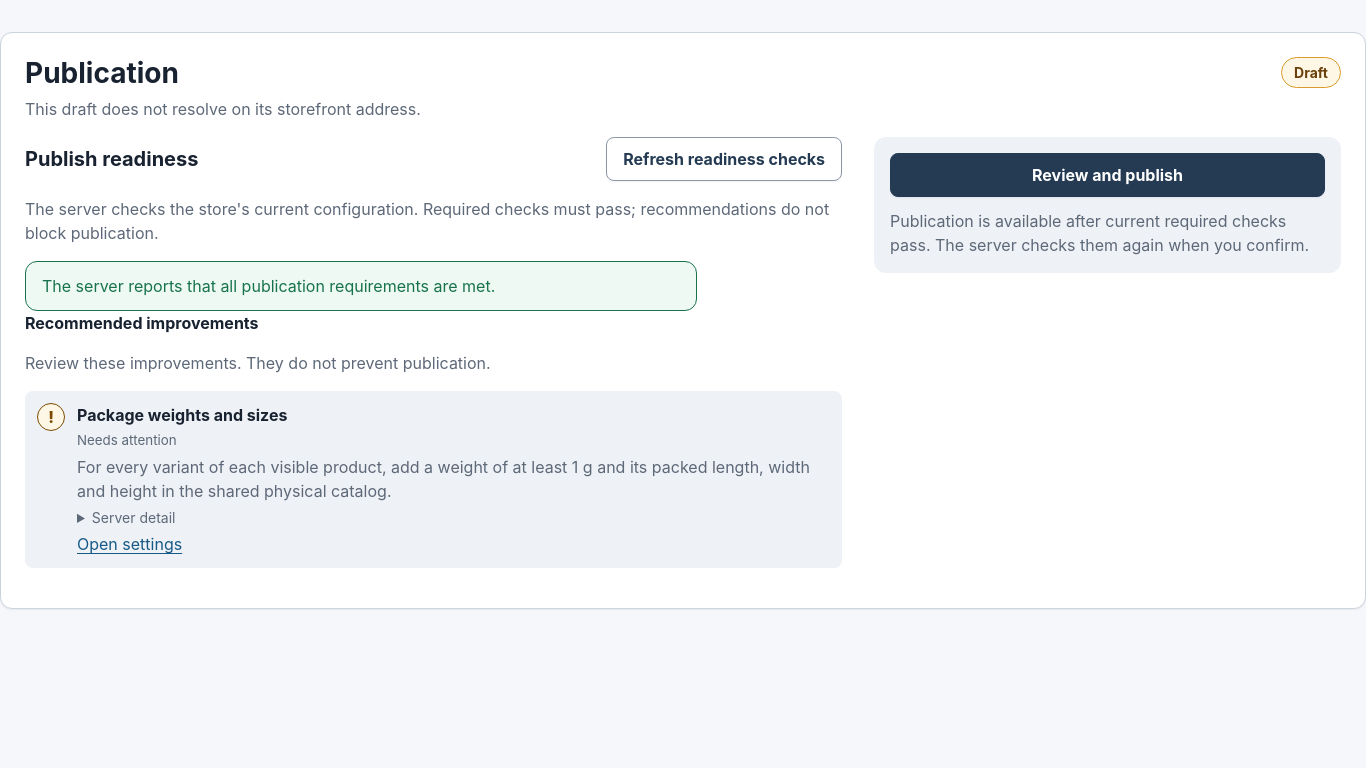
it: server publication readiness › labels shipping data and links to company products, respecting the server weight in en
The image size is (1366, 768).
Expected: the text "For every variant of each visible product, add a weight of at least 1 g and its packed length, width and height in the s" is shown, top-left (77, 457), bottom-right (810, 501)
Expected: the button "Review and publish" is enabled, top-left (890, 153), bottom-right (1325, 197)
Click the button "Refresh readiness checks".
click(724, 159)  # box top-left (606, 137), bottom-right (842, 181)
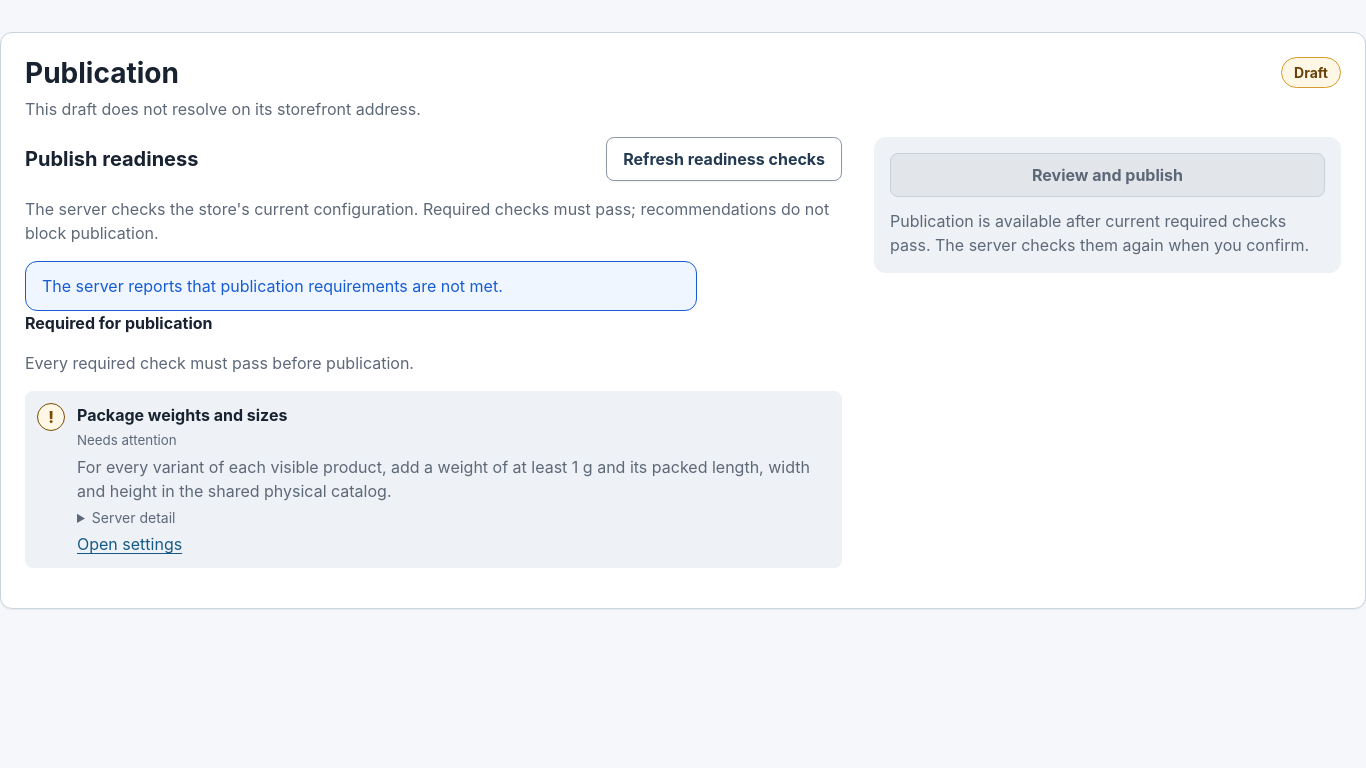
Expected: the text "Package weights and sizes" is shown, top-left (77, 405), bottom-right (287, 425)
Now the button "Review and publish" is disabled, box top-left (890, 153), bottom-right (1325, 197)
